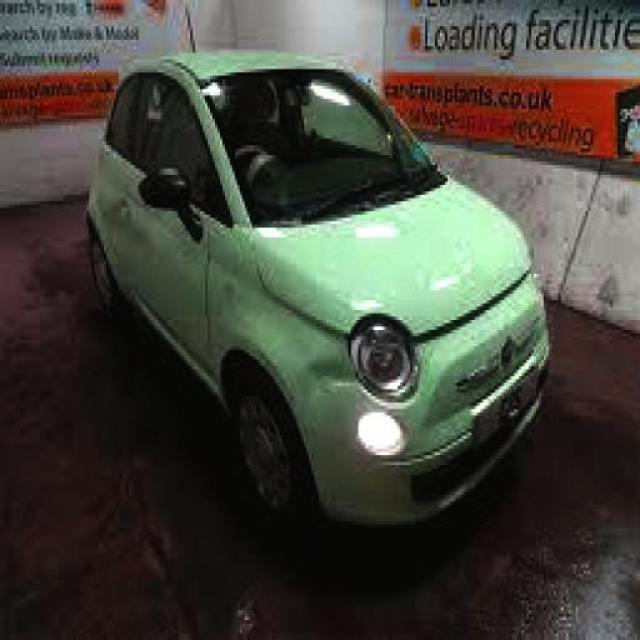car damage: (306, 345, 359, 407)
